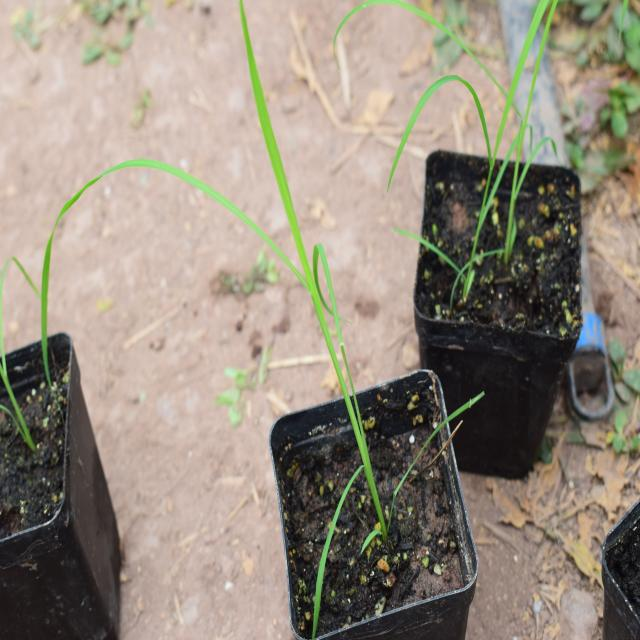barnyard_grass: (82, 60, 385, 533)
